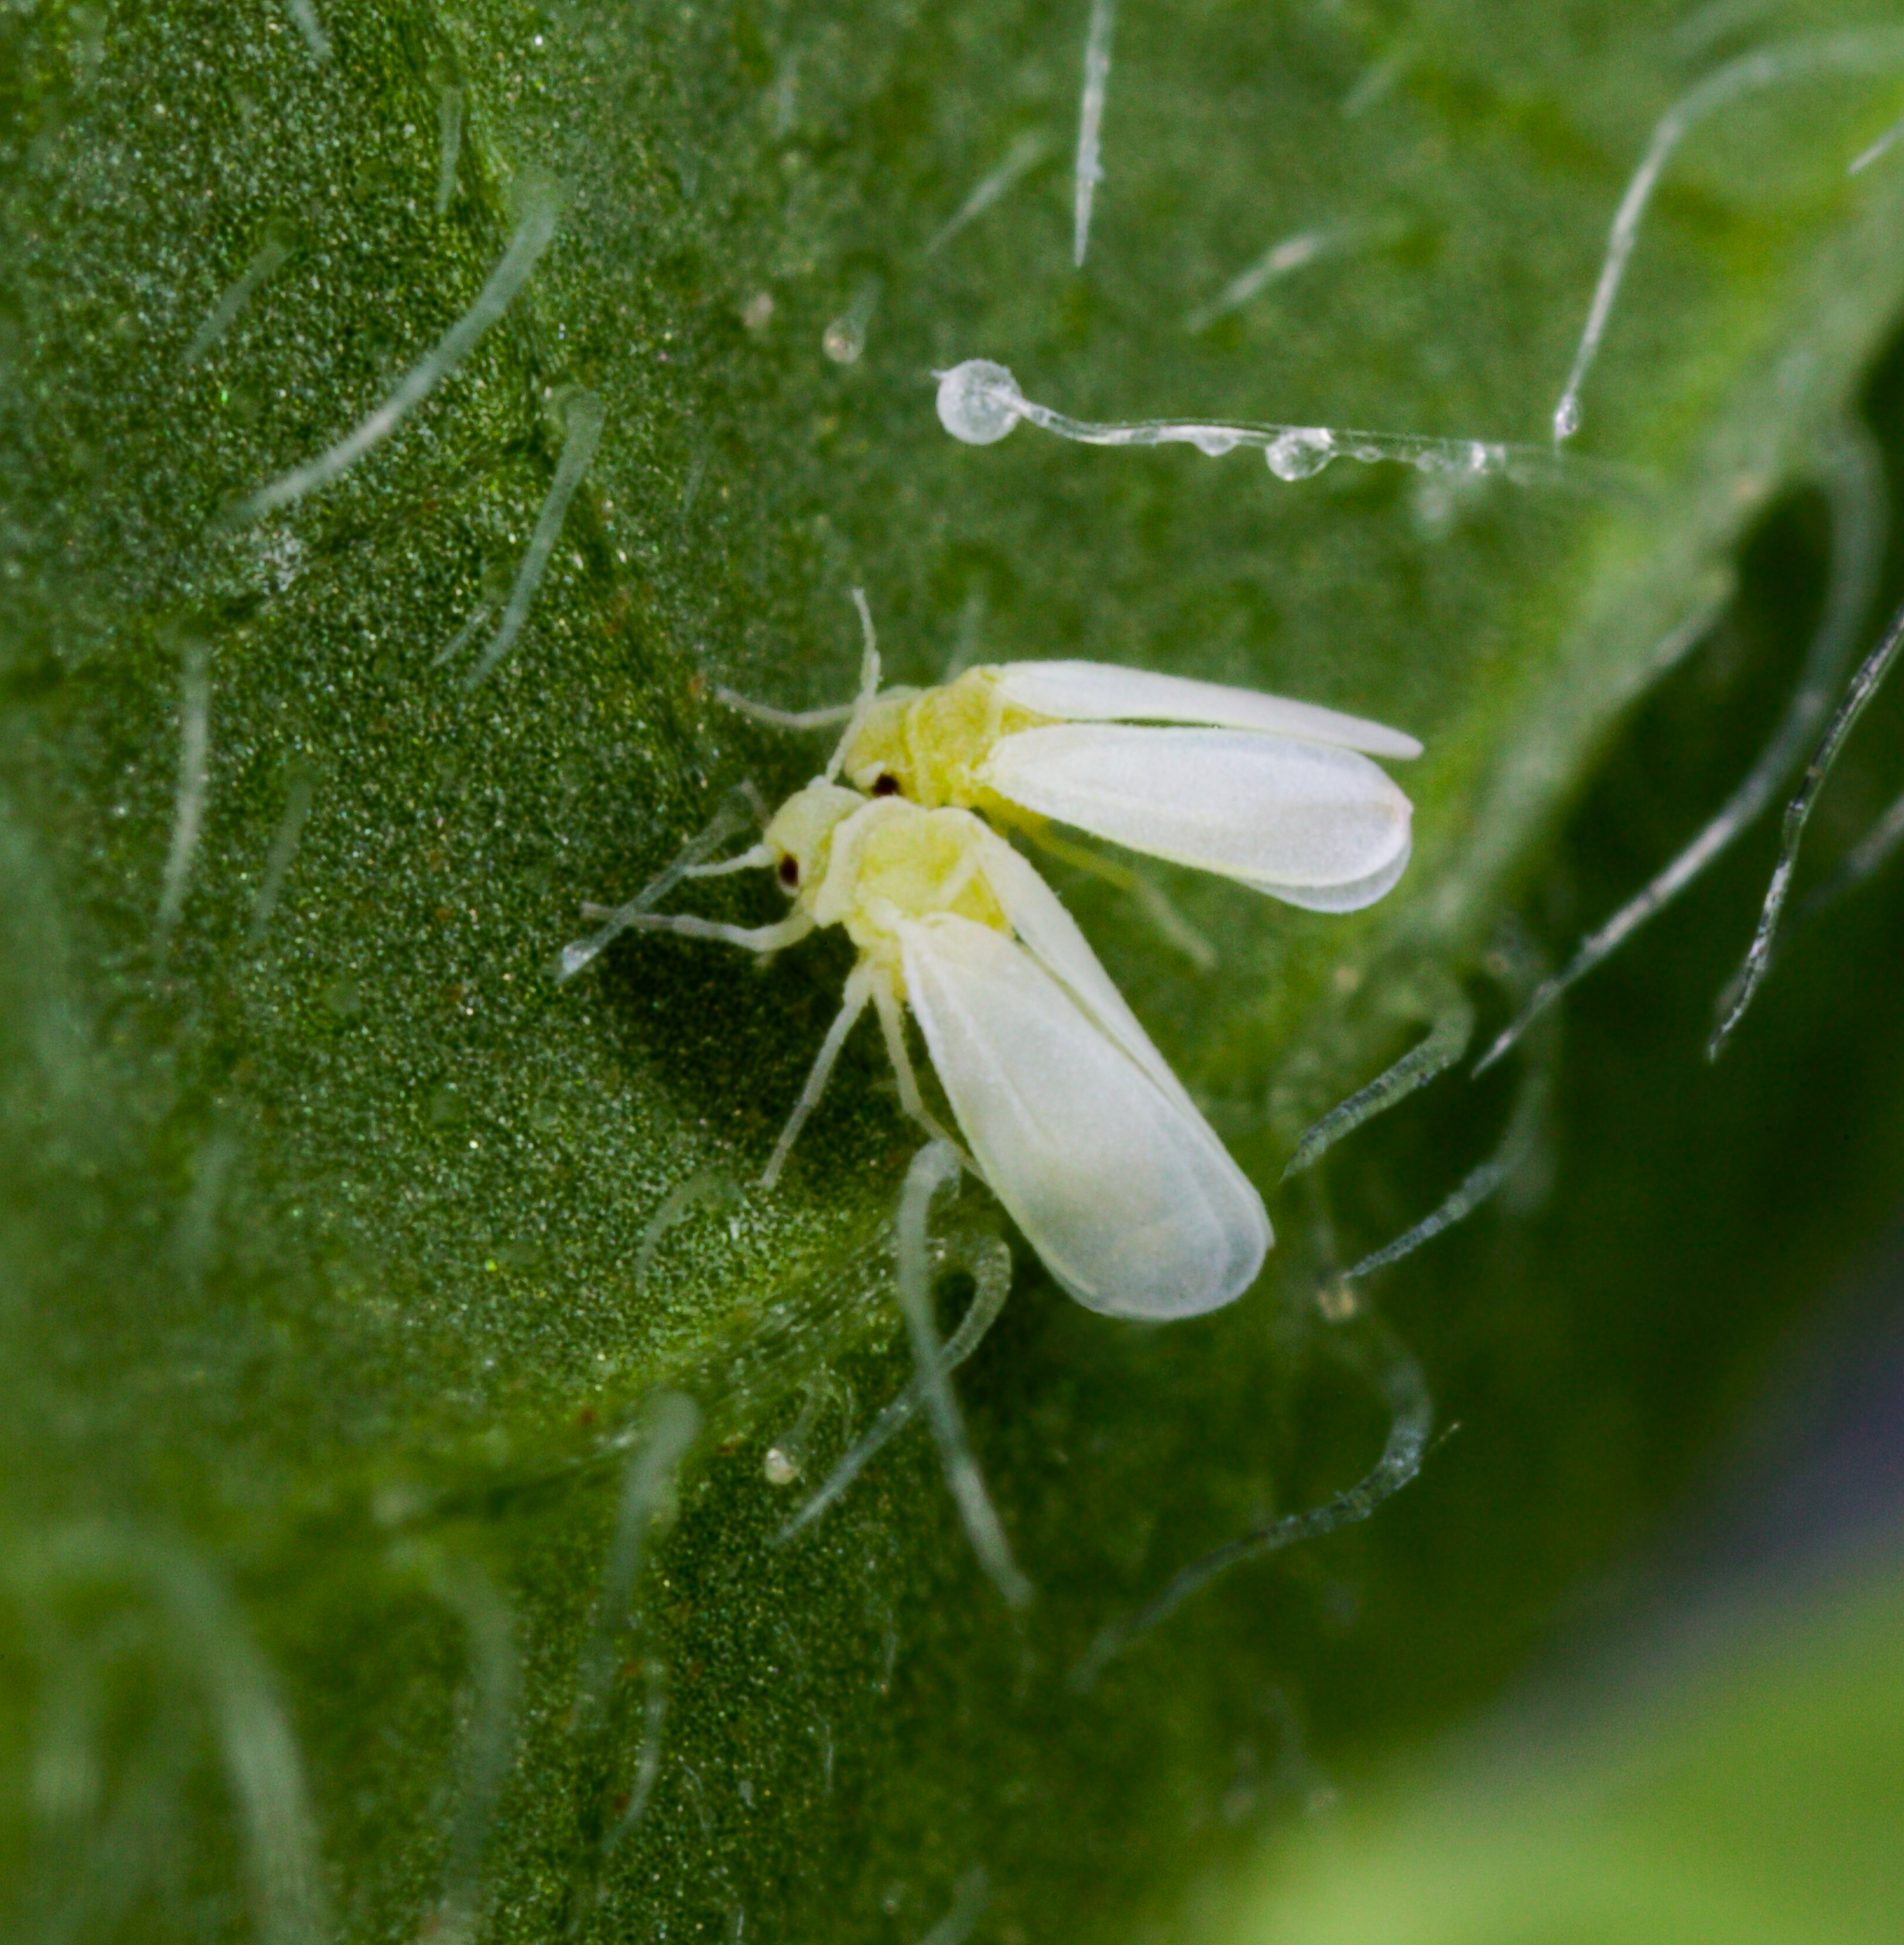Tobacco Whitefly: (654, 776, 1184, 1392), (788, 588, 1449, 972)
